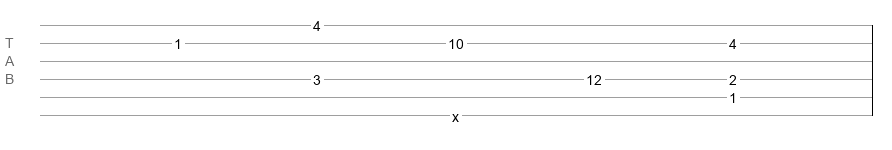1: (174, 36, 182, 46), (729, 90, 737, 100)
10: (448, 36, 464, 46)
12: (586, 72, 602, 82)
2: (729, 72, 737, 82)
3: (313, 72, 321, 82)
4: (313, 18, 321, 28), (729, 36, 737, 46)
x: (452, 109, 459, 117)
